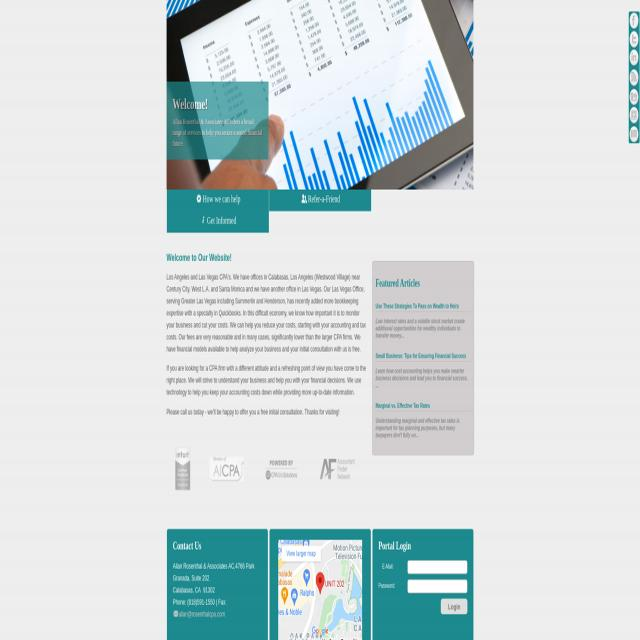button: (166, 190, 268, 212), (269, 190, 371, 212), (166, 212, 268, 234), (317, 449, 359, 492), (206, 449, 247, 492), (263, 449, 301, 492), (172, 449, 194, 492), (441, 600, 467, 616), (630, 11, 638, 30), (630, 88, 638, 105), (630, 107, 638, 123), (630, 126, 638, 142), (630, 31, 638, 47), (630, 49, 638, 65), (630, 70, 638, 86)
field: (408, 561, 468, 575), (408, 581, 468, 595)
